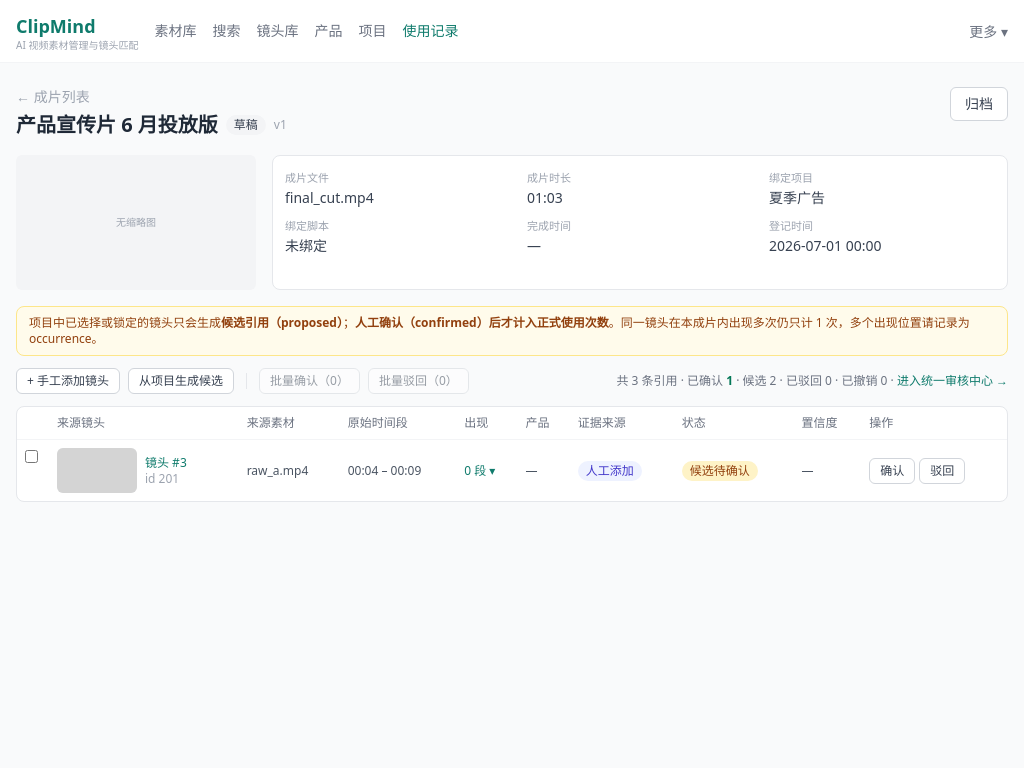
it: FinalVideoDetail › 动作 409 冲突展示错误
The width and height of the screenshot is (1024, 768).
Click the button with test id "usage-confirm-11" at (892, 470), box [869,458,915,484]
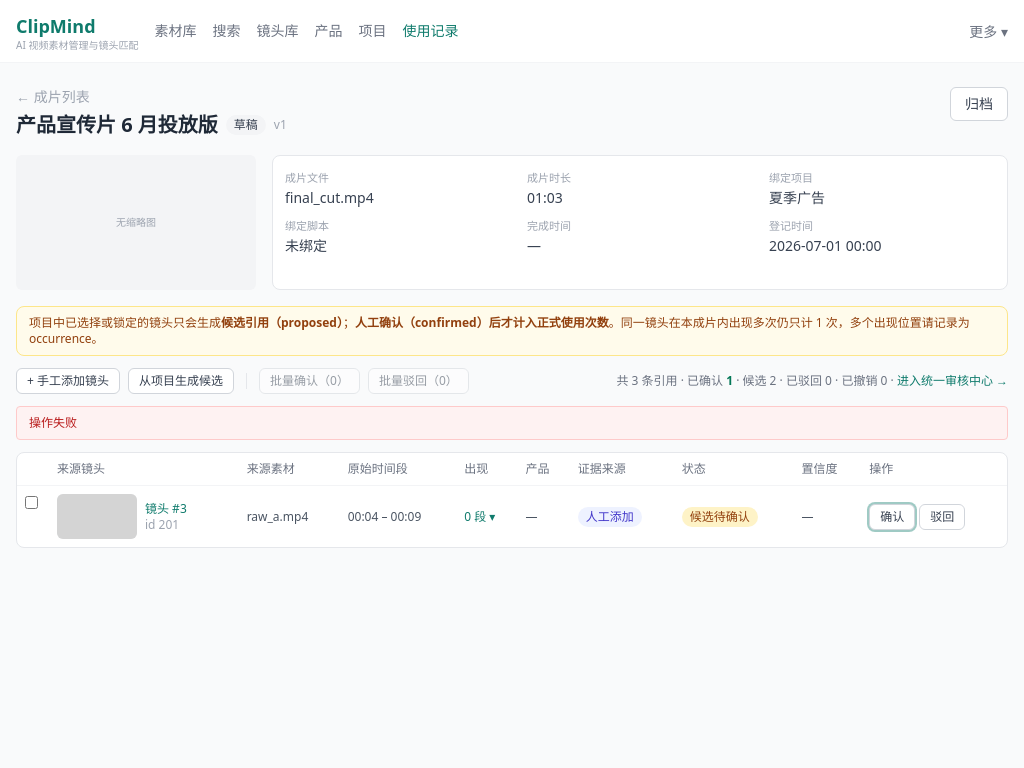
Check: the text "操作失败" is shown, box [16,406,1008,440]
